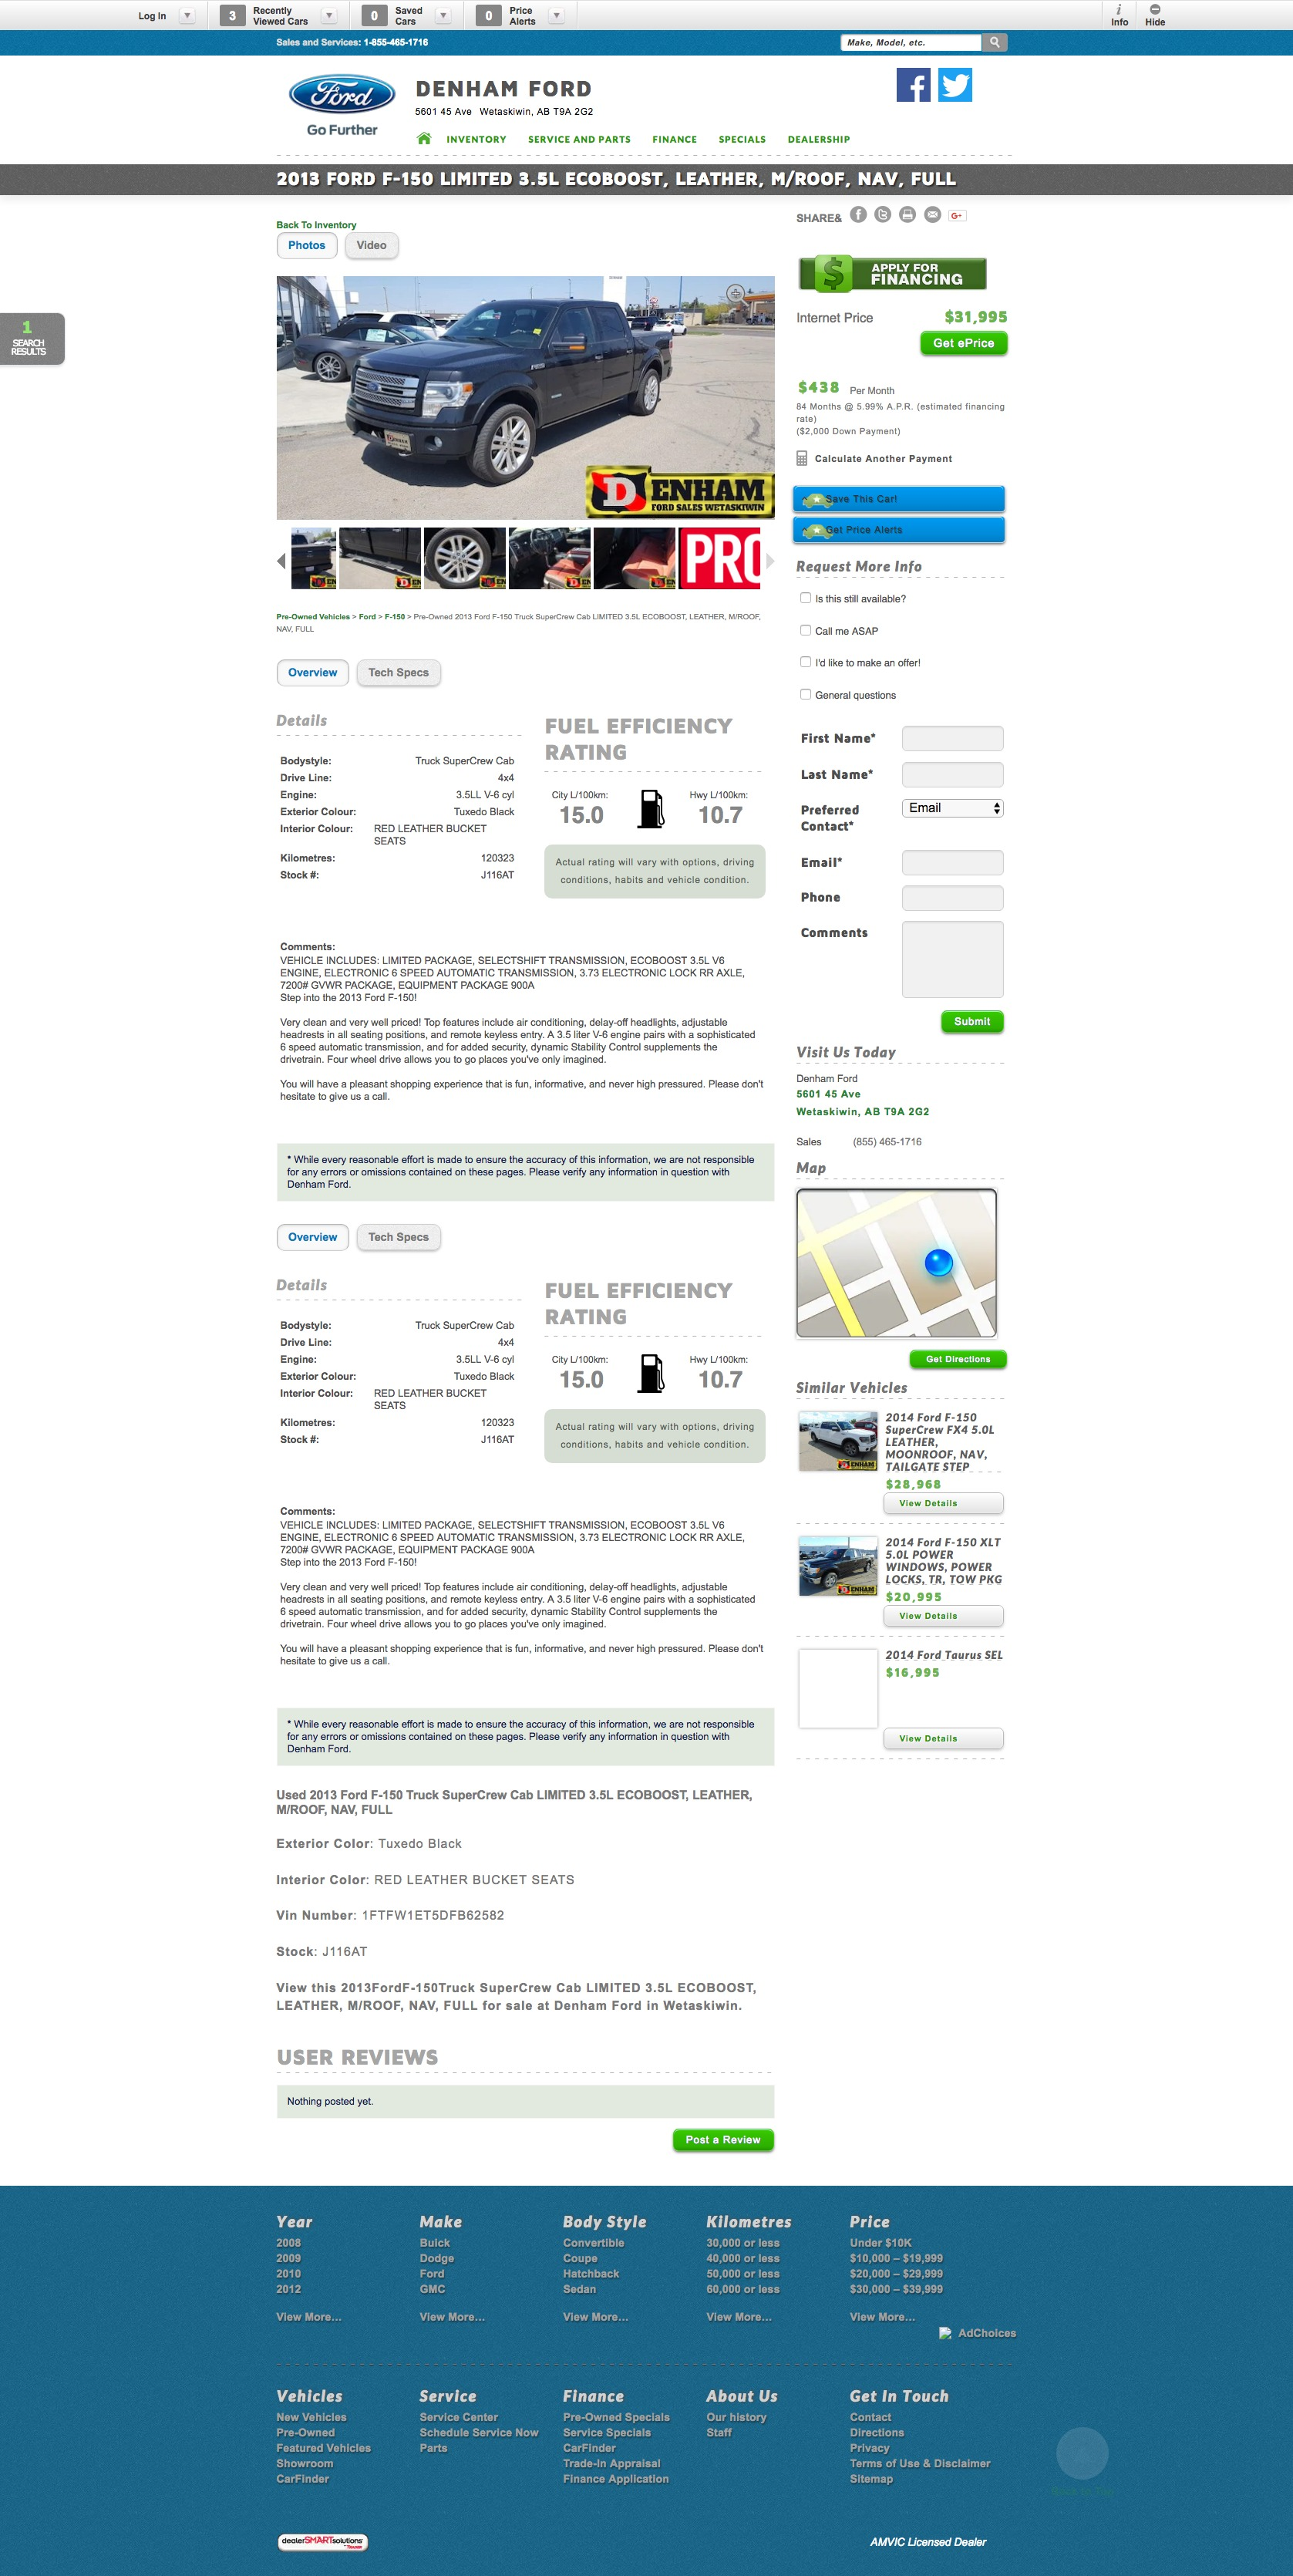car: (765, 552, 775, 571)
